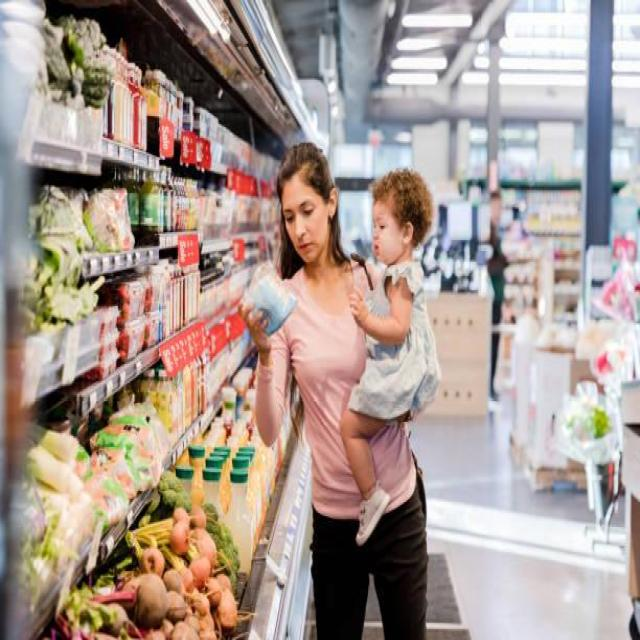article: (242, 262, 296, 334)
hands: (239, 303, 270, 364)
person: (239, 143, 425, 638), (340, 169, 438, 544)
